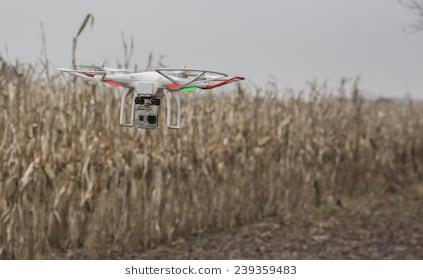drone: (59, 65, 247, 132)
